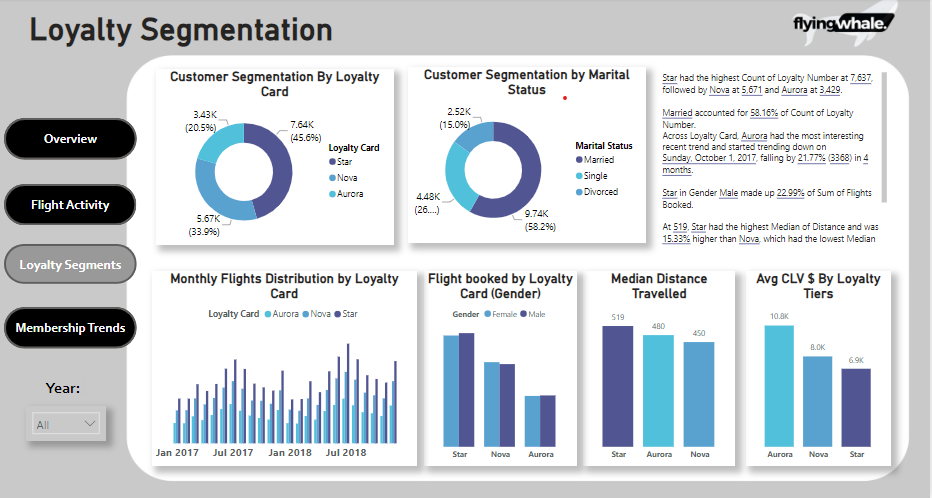

What the dashboard file says about the page in this screenshot:
{"tool":"powerbi","page":{"name":"Loyalty Segment","canvas":[1430,768],"ordinal":2},"visuals":[{"type":"textbox","title":"Company Title","box":[40,14,644,68],"z":0},{"type":"actionButton","title":"Membership Trend","box":[6,473.8,203.8,63.8],"z":0,"group":"g2"},{"type":"slicer","title":"Year Slicer","fields":{"Values":["Customer Loyalty Cancellation.Cancellation Year"]},"box":[40,626.6,123.3,53.3],"z":0,"group":"g1"},{"type":"actionButton","title":"Loyalty Segment","box":[6,377.5,203.8,61.2],"z":1000,"group":"g2"},{"type":"group","id":"g1","title":"Year","box":[40,578.3,123.3,101.7],"z":1000},{"type":"textbox","title":"Year Text","box":[65,578.3,73.3,36.7],"z":1000,"group":"g1"},{"type":"group","id":"g2","title":"Pages","box":[6,183.8,204,353.8],"z":2000},{"type":"actionButton","box":[6.7,285,203.3,63.3],"z":2000,"group":"g2"},{"type":"actionButton","title":"Overview","box":[6.3,183.8,203.8,63.8],"z":3000,"group":"g2"},{"type":"clusteredColumnChart","title":"Monthly Flights Distribution by Loyalty Card","fields":{"Y":["Sum(Customer Flight Activity.Total Flights)"],"Series":["Customer Loyalty History.Loyalty Card"],"Category":["Datetable.Date"]},"box":[233.3,420,406.7,300],"z":3000},{"type":"donutChart","title":"Customer Segmentation By Loyalty Card","fields":{"Category":["Customer Loyalty History.Loyalty Card"],"Y":["Count(Customer Loyalty History.Loyalty Number)"]},"box":[240,108.3,365,270],"z":4000},{"type":"donutChart","title":"Customer Segmentation by Marital Status","fields":{"Y":["CountNonNull(Customer Loyalty History.Loyalty Number)"],"Category":["Customer Loyalty History.Marital Status"]},"box":[626.7,106.7,365,270],"z":5000},{"type":"clusteredColumnChart","title":"Flight booked by Loyalty Card (Gender)","fields":{"Y":["Sum(Customer Flight Activity.Flights Booked)"],"Series":["Customer Loyalty History.Gender"],"Category":["Customer Loyalty History.Loyalty Card"]},"box":[650.9,420,234.5,300],"z":6000},{"type":"clusteredColumnChart","title":"Median Distance Travelled","fields":{"Category":["Customer Loyalty History.Loyalty Card"],"Y":["Median(Customer Flight Activity.Distance)"]},"box":[895.7,420,234.3,300],"z":7000},{"type":"clusteredColumnChart","title":"Avg CLV $ By Loyalty Tiers","fields":{"Category":["Customer Loyalty History.Loyalty Card"],"Y":["Avg(Customer Loyalty Cancellation.CLV)"]},"box":[1145.3,420,222.7,300],"z":8000},{"type":"textbox","box":[1012.5,108.8,355,275],"z":9000}]}

Visuals, with their boxes in screenshot pixels (x1, y1, x2, y2), scaled from the page's 1430x768 canvas onto the 932x498 screenshot:
"Company Title" textbox: [26,9,446,53]
"Membership Trend" actionButton: [4,307,137,349]
"Year Slicer" slicer: [26,406,106,441]
"Loyalty Segment" actionButton: [4,245,137,284]
"Year" group: [26,375,106,441]
"Year Text" textbox: [42,375,90,399]
"Pages" group: [4,119,137,349]
actionButton: [4,185,137,226]
"Overview" actionButton: [4,119,137,161]
"Monthly Flights Distribution by Loyalty Card" clusteredColumnChart: [152,272,417,467]
"Customer Segmentation By Loyalty Card" donutChart: [156,70,394,245]
"Customer Segmentation by Marital Status" donutChart: [408,69,646,244]
"Flight booked by Loyalty Card (Gender)" clusteredColumnChart: [424,272,577,467]
"Median Distance Travelled" clusteredColumnChart: [584,272,736,467]
"Avg CLV $ By Loyalty Tiers" clusteredColumnChart: [746,272,892,467]
textbox: [660,71,891,249]
